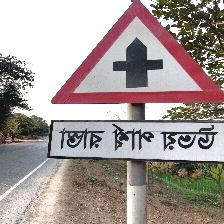Crossroad: (32, 0, 224, 167)
